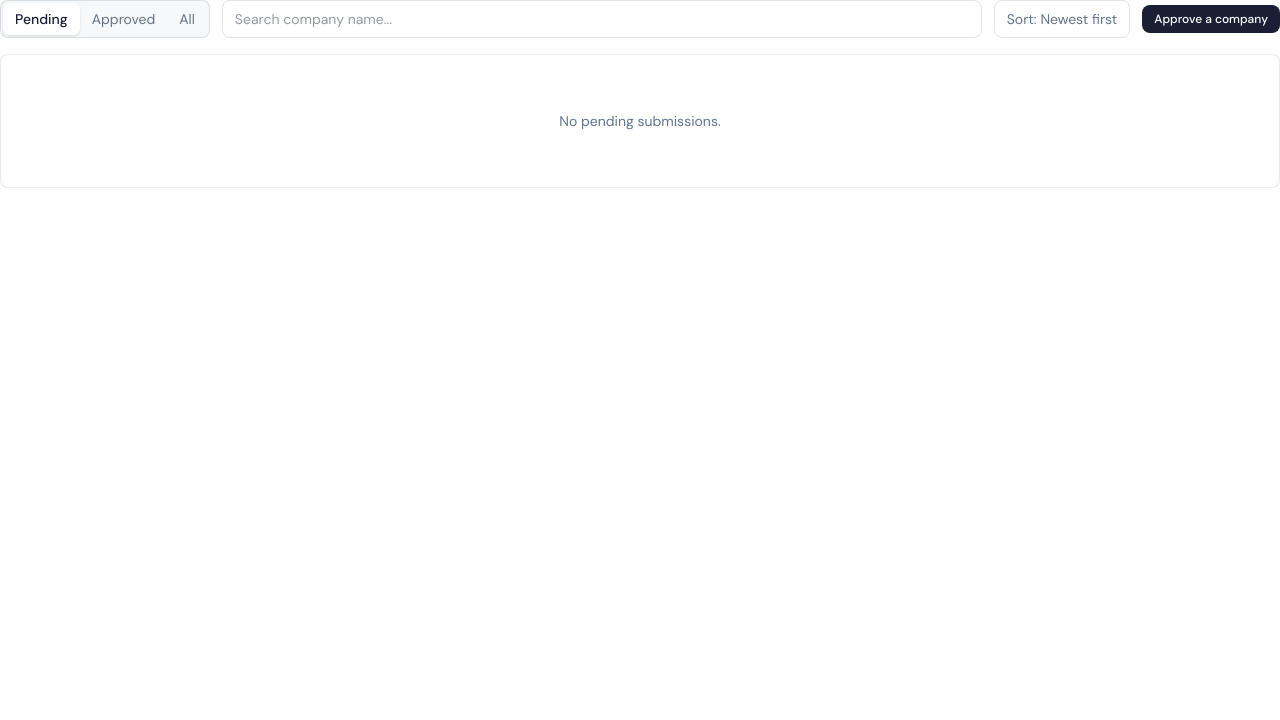
Test: EntityApprovalsTab — proactive approval › opens a participant-search modal when "Approve a company" is clicked
Click the button "Approve a company": (1211,19) [1142,5,1279,33]
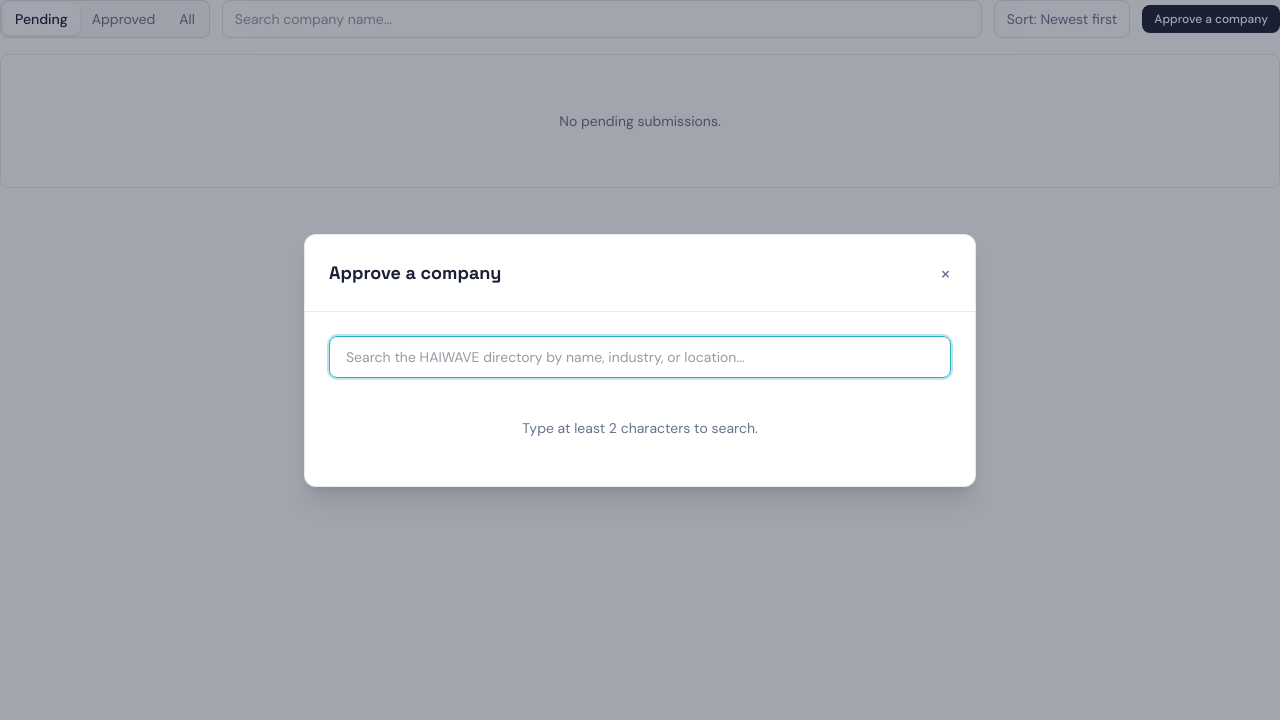
Check: the field with placeholder "Search the HAIWAVE directory" is shown, box [329,336,951,378]
